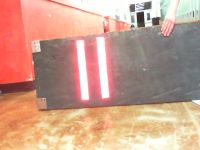switch: (96, 37, 111, 99), (76, 40, 90, 100)
